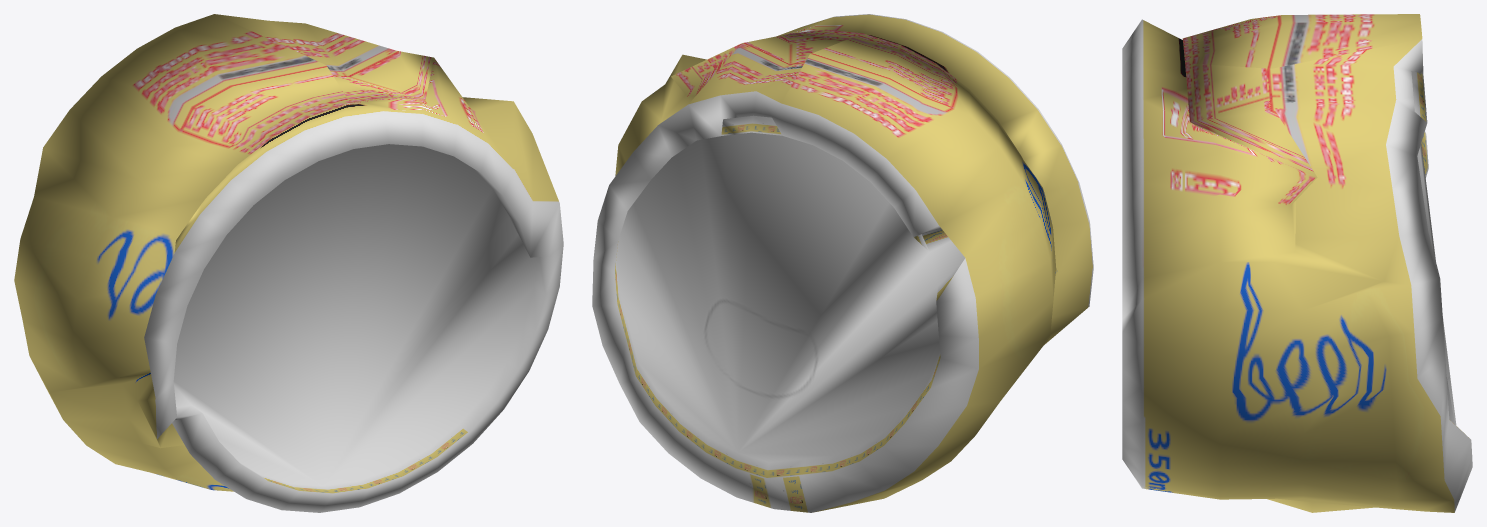
Rendered from CrumpeldCan.fbx.
The picture shows the model from 3 angles, left to right: view 1: azimuth 30°, elevation 25°; view 2: azimuth 150°, elevation 25°; view 3: azimuth 270°, elevation 25°; orthographic projection. The views are drawn at different scales.
Parts seen in each view (by area): view 1: Cylinder; view 2: Cylinder; view 3: Cylinder.
Boxes of the visible parts, box(x1,y1,x2,y2) form: Cylinder: box(14, 14, 563, 512); Cylinder: box(592, 14, 1093, 512); Cylinder: box(1122, 14, 1472, 512).
Bounding box in the file's own units: 224 × 206 × 141.
